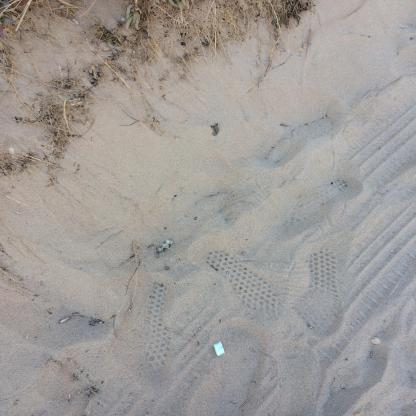plastik: (215, 342, 227, 357)
